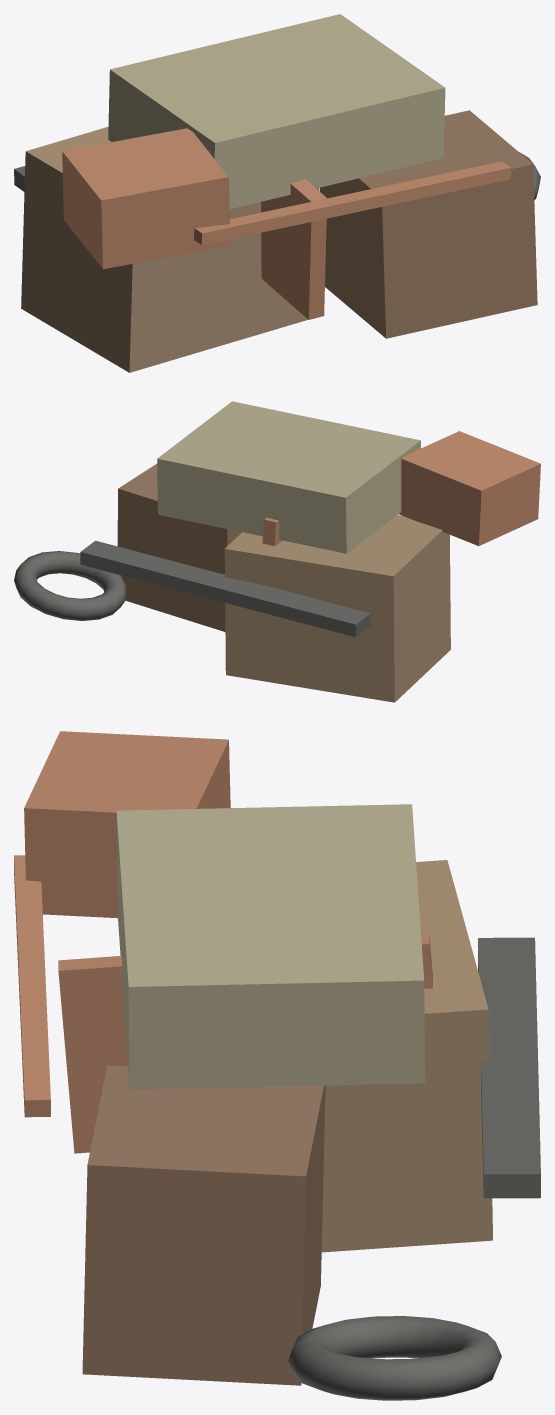
Rendered from cargo_stack.glb.
3 views of the same model, one above another, from view 1: azimuth 30°, elevation 25°; view 2: azimuth 150°, elevation 25°; view 3: azimuth 270°, elevation 25° (orthographic). The views are drawn at different scales.
Parts seen in each view (by area): view 1: top_tarpaulin_roll, right_wood_crate, left_canvas_box, side_rust_box, rear_rope_a, short_rope_b; view 2: left_canvas_box, top_tarpaulin_roll, side_rust_box, right_wood_crate, front_dark_plate, loose_tire_side, short_rope_b; view 3: top_tarpaulin_roll, right_wood_crate, left_canvas_box, side_rust_box, loose_tire_side, front_dark_plate, short_rope_b, rear_rope_a.
Part boxes in pixels (bbox=[...]): top_tarpaulin_roll: bbox=[108, 14, 445, 209]; right_wood_crate: bbox=[319, 110, 537, 338]; left_canvas_box: bbox=[21, 127, 318, 372]; side_rust_box: bbox=[62, 128, 230, 269]; rear_rope_a: bbox=[194, 161, 510, 244]; short_rope_b: bbox=[261, 179, 327, 319]; left_canvas_box: bbox=[224, 515, 450, 702]; top_tarpaulin_roll: bbox=[157, 401, 420, 553]; side_rust_box: bbox=[399, 431, 540, 546]; right_wood_crate: bbox=[117, 463, 241, 631]; front_dark_plate: bbox=[80, 540, 370, 637]; loose_tire_side: bbox=[14, 551, 126, 620]; short_rope_b: bbox=[262, 517, 282, 546]; top_tarpaulin_roll: bbox=[116, 804, 425, 1089]; right_wood_crate: bbox=[82, 1065, 325, 1385]; left_canvas_box: bbox=[321, 860, 492, 1252]; side_rust_box: bbox=[24, 731, 230, 918]; loose_tire_side: bbox=[288, 1316, 501, 1400]; front_dark_plate: bbox=[478, 937, 540, 1198]; short_rope_b: bbox=[58, 933, 432, 1153]; rear_rope_a: bbox=[14, 855, 50, 1117].
Size of the model in its own units: 1.94 by 0.8131 by 1.1.
